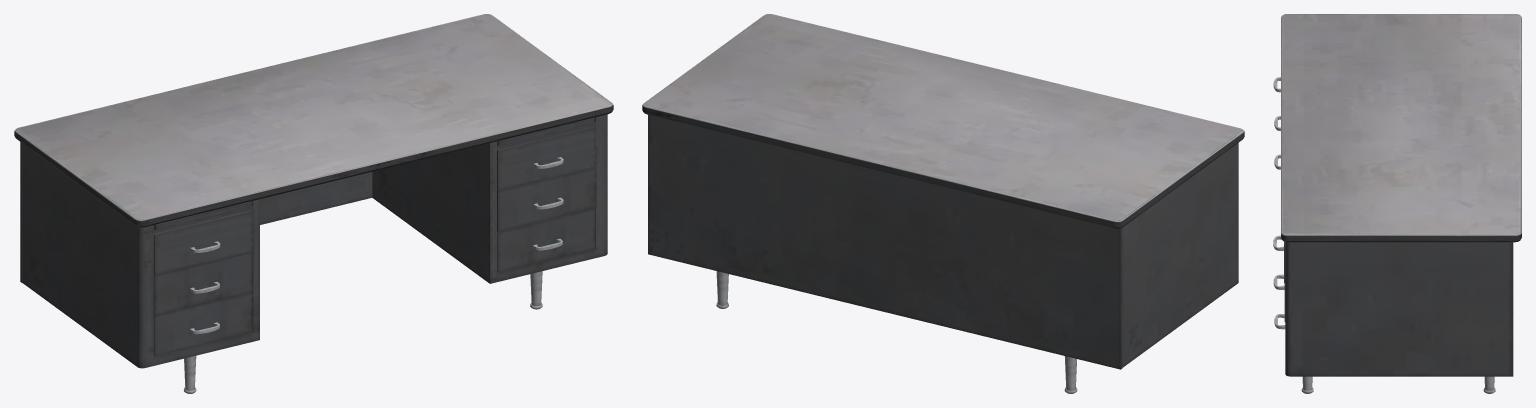
File: metal_office_desk.glb
3 renders of one model, left to right at view 1: azimuth 30°, elevation 25°; view 2: azimuth 150°, elevation 25°; view 3: azimuth 270°, elevation 25°, orthographic. The views are drawn at different scales.
Parts seen in each view (by area): view 1: drawer_06; view 2: drawer_06; view 3: drawer_06.
Part boxes in pixels (bbox=[...]): drawer_06: bbox=[14, 14, 613, 393]; drawer_06: bbox=[642, 14, 1244, 393]; drawer_06: bbox=[1273, 14, 1521, 393].
Size of the model in its own units: 2 by 0.7874 by 0.9471.
Materials: 1 (1 with a texture image).
